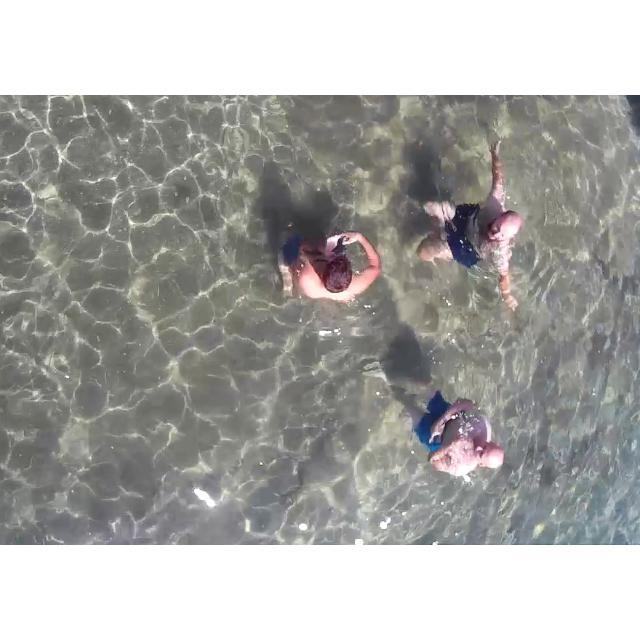human: (419, 115, 523, 327), (403, 375, 506, 490), (271, 213, 388, 313)
